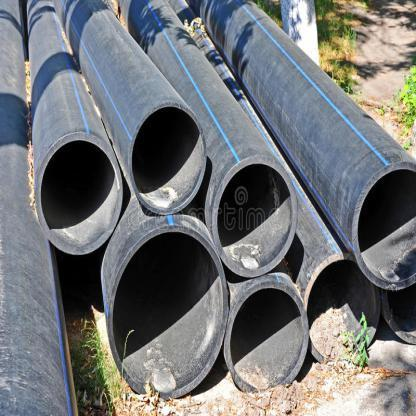pipe: (108, 225, 228, 400), (35, 132, 123, 255), (211, 155, 299, 277), (225, 281, 309, 392), (128, 102, 207, 214), (351, 160, 415, 291), (304, 254, 380, 361)
